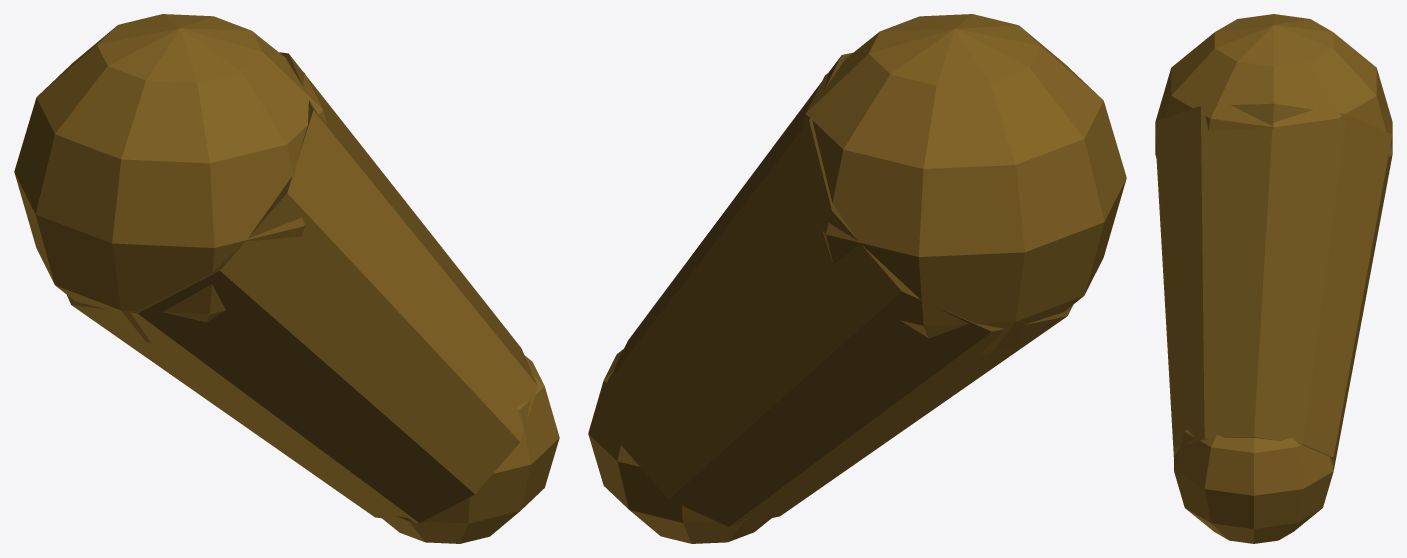
The model's file is SM_triceratops_hind_r_Upper.fbx.
The picture shows the model from 3 angles, left to right: view 1: azimuth 30°, elevation 25°; view 2: azimuth 150°, elevation 25°; view 3: azimuth 270°, elevation 25°; orthographic projection. The views are drawn at different scales.
Parts seen in each view (by area): view 1: SM_triceratops_hind_r_Upper export; view 2: SM_triceratops_hind_r_Upper export; view 3: SM_triceratops_hind_r_Upper export.
Part boxes in pixels (x1,y1,x2,y2): SM_triceratops_hind_r_Upper export: (14,14,559,543); SM_triceratops_hind_r_Upper export: (588,14,1126,543); SM_triceratops_hind_r_Upper export: (1155,14,1392,543).
Size of the model in its own units: 179 by 98.91 by 192.
